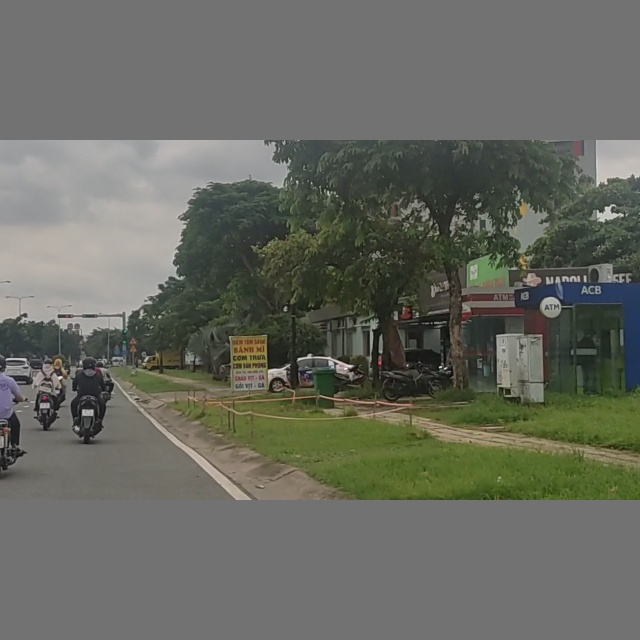W.207: (129, 337, 138, 345)
W.224: (129, 345, 137, 353)
